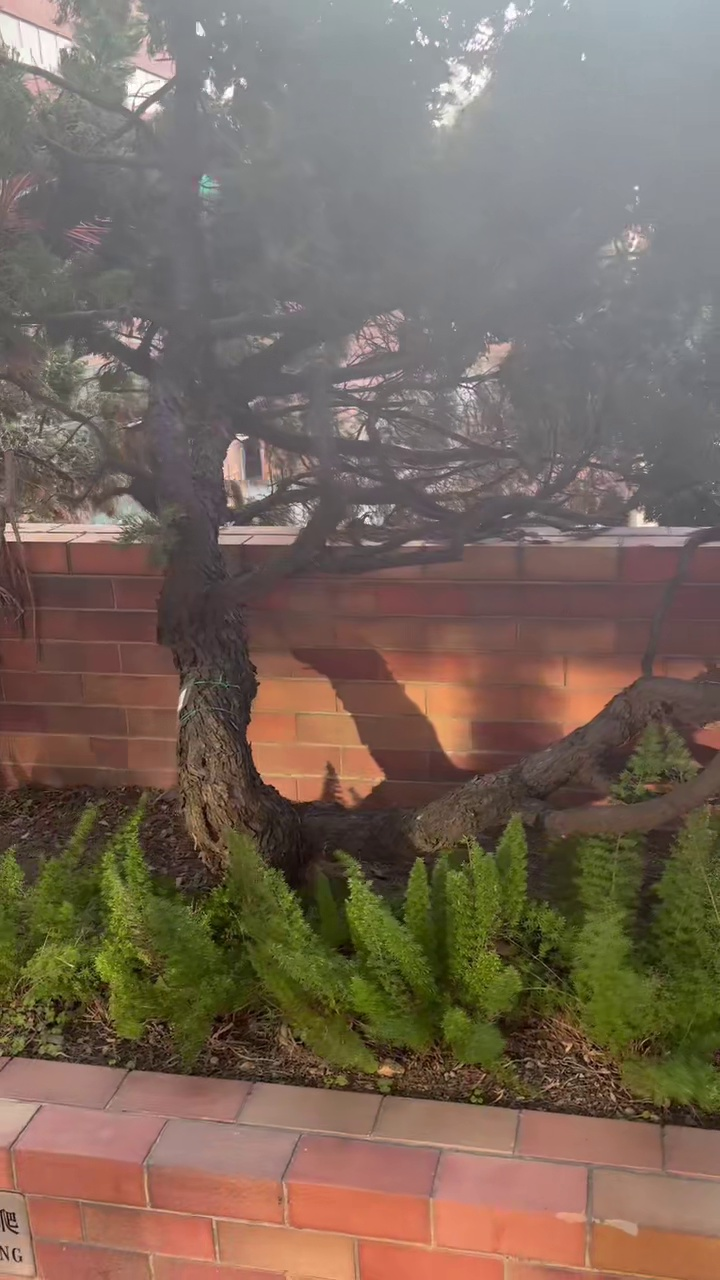Juniperus chinensis: (0, 0, 719, 877)
